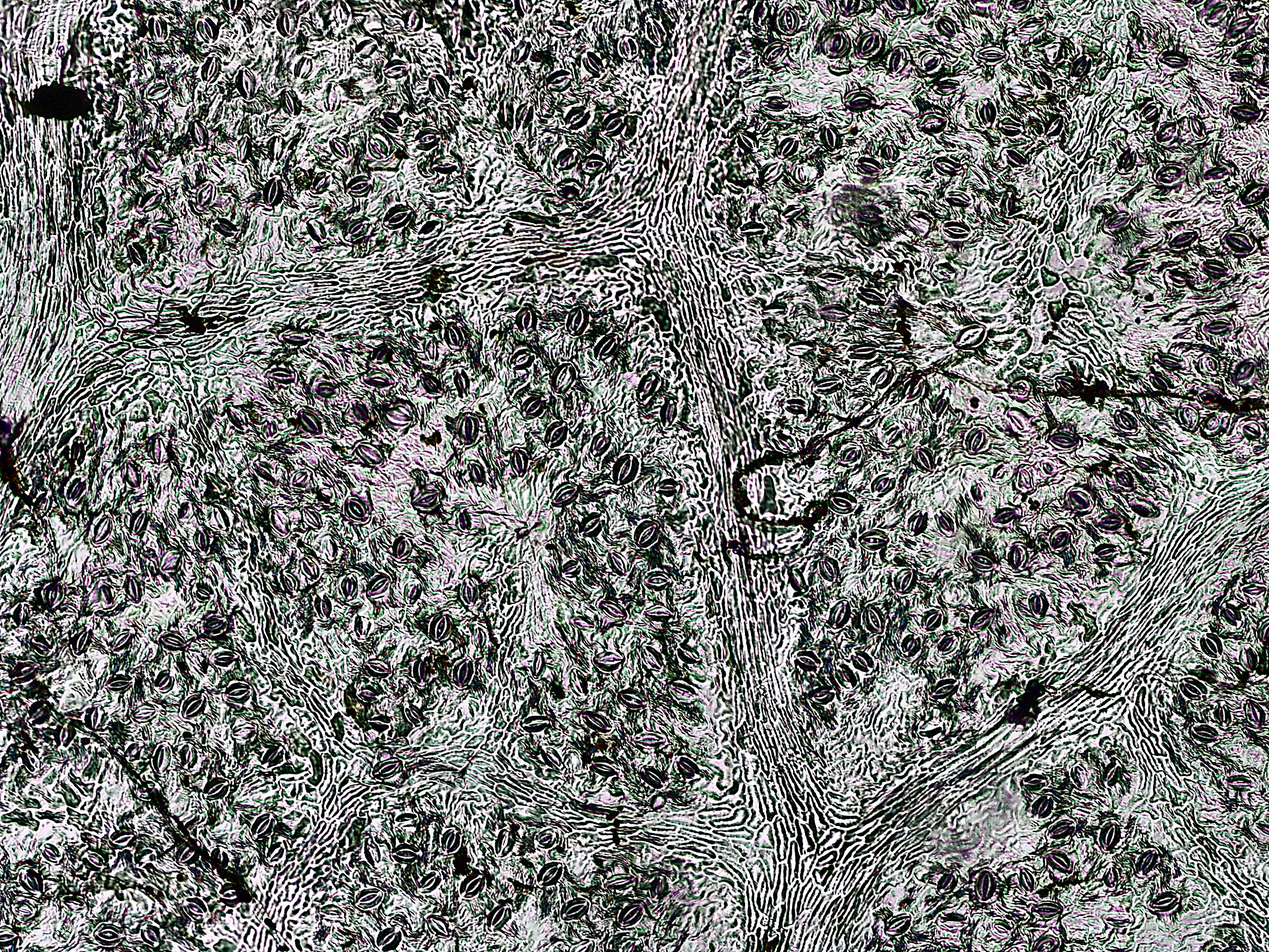stomata: (902, 714, 961, 750), (812, 114, 849, 158), (840, 83, 884, 117), (421, 66, 457, 107), (851, 518, 896, 550), (1096, 506, 1137, 541), (849, 197, 892, 230), (736, 212, 775, 248), (1096, 205, 1137, 239), (86, 917, 125, 951), (757, 38, 798, 69), (953, 318, 989, 353), (629, 513, 662, 550), (1042, 427, 1087, 454), (1236, 175, 1269, 210), (975, 41, 1014, 70), (545, 476, 581, 507), (609, 897, 645, 928), (293, 401, 323, 438), (277, 86, 306, 124), (921, 672, 959, 701), (939, 182, 981, 208), (635, 364, 662, 404), (874, 130, 903, 167), (240, 808, 278, 836), (774, 4, 807, 36), (183, 895, 216, 927), (461, 865, 492, 899), (544, 619, 573, 655), (531, 822, 568, 850), (403, 484, 441, 511), (425, 911, 457, 943), (577, 510, 610, 541), (861, 600, 890, 635), (429, 151, 468, 177), (77, 847, 113, 875), (1019, 931, 1067, 952), (891, 624, 922, 656), (813, 302, 856, 325), (849, 150, 883, 179), (1054, 371, 1088, 400), (1087, 537, 1128, 561), (166, 840, 205, 865), (553, 175, 589, 202), (42, 575, 69, 611), (1166, 225, 1203, 251), (352, 883, 389, 909), (911, 439, 937, 476), (1202, 310, 1239, 336), (674, 751, 702, 785), (102, 670, 137, 697), (764, 429, 803, 453), (773, 127, 803, 158), (763, 83, 792, 115), (886, 44, 915, 76), (580, 707, 612, 736), (964, 547, 996, 576), (1048, 843, 1077, 875), (1230, 97, 1263, 125), (637, 763, 671, 790), (1045, 812, 1079, 839), (146, 10, 172, 45), (50, 716, 75, 752), (820, 27, 849, 58), (548, 362, 577, 393), (410, 866, 441, 895), (365, 570, 396, 599), (543, 420, 571, 452), (1105, 406, 1137, 434), (328, 127, 355, 160), (587, 424, 614, 457), (7, 658, 40, 685), (22, 697, 55, 724), (208, 646, 245, 670), (1200, 258, 1234, 284), (422, 615, 456, 641), (645, 16, 670, 51), (597, 597, 632, 622), (614, 684, 649, 709), (928, 72, 966, 95), (1151, 162, 1189, 185), (604, 546, 633, 576), (20, 862, 49, 892), (597, 107, 628, 135), (854, 25, 882, 56), (613, 455, 640, 487), (225, 679, 261, 703), (570, 665, 596, 698), (233, 65, 256, 102), (917, 106, 951, 131), (139, 146, 168, 175), (142, 432, 171, 461), (89, 513, 113, 548), (461, 410, 482, 450), (1142, 373, 1182, 394), (826, 489, 861, 513), (1030, 896, 1065, 920), (1102, 758, 1130, 788), (380, 202, 411, 229), (490, 826, 517, 857), (387, 400, 419, 426), (450, 658, 476, 690), (1067, 47, 1092, 80), (226, 407, 255, 435), (882, 907, 910, 936), (967, 605, 997, 632), (69, 623, 95, 654), (640, 644, 666, 675), (1006, 537, 1031, 569), (508, 442, 529, 480), (843, 342, 885, 361), (491, 95, 515, 128), (616, 27, 638, 63), (995, 183, 1019, 216), (903, 372, 927, 405), (157, 545, 185, 573), (260, 741, 288, 769), (401, 5, 428, 34), (540, 745, 567, 774), (1015, 458, 1038, 492), (512, 100, 538, 130), (906, 207, 932, 237), (1224, 231, 1254, 257), (594, 335, 620, 365), (278, 330, 319, 349), (754, 159, 785, 184), (1153, 121, 1184, 146), (656, 399, 681, 430), (59, 890, 90, 915), (128, 699, 159, 724), (938, 219, 973, 241), (275, 4, 299, 36), (1158, 44, 1190, 68), (1123, 503, 1161, 523), (126, 236, 149, 269), (896, 562, 919, 595), (194, 17, 222, 44), (1163, 259, 1191, 286), (64, 435, 92, 462), (536, 858, 564, 885), (849, 645, 875, 674), (789, 162, 814, 192), (148, 217, 182, 239), (993, 116, 1027, 138), (67, 471, 89, 505), (269, 505, 291, 539), (122, 459, 146, 490), (366, 366, 397, 390), (1149, 889, 1180, 913), (940, 909, 971, 933), (206, 771, 229, 803), (414, 124, 441, 151), (561, 101, 588, 128), (919, 607, 946, 634), (252, 459, 278, 487), (1017, 12, 1050, 34), (444, 318, 466, 351), (105, 625, 134, 650), (558, 898, 587, 923), (517, 712, 555, 731), (746, 0, 770, 30), (591, 646, 625, 667), (636, 727, 670, 748), (344, 217, 375, 240), (932, 17, 963, 40), (263, 175, 285, 207), (934, 505, 956, 537), (1068, 760, 1090, 792), (936, 150, 962, 177), (865, 361, 892, 387), (1039, 458, 1065, 485), (992, 500, 1019, 526), (776, 204, 811, 224), (345, 496, 373, 521), (487, 904, 511, 933), (673, 641, 702, 665), (139, 917, 162, 947), (819, 555, 842, 585), (934, 867, 957, 897), (642, 572, 678, 591), (32, 491, 54, 522), (391, 842, 422, 864), (1231, 358, 1262, 380), (1017, 768, 1048, 790), (368, 759, 402, 779), (138, 186, 164, 212), (124, 511, 151, 536), (121, 571, 142, 603), (861, 280, 889, 304), (182, 688, 205, 717), (871, 472, 900, 495), (1154, 352, 1191, 370), (454, 365, 473, 400), (568, 304, 587, 339), (28, 634, 58, 656), (187, 119, 208, 150), (210, 216, 241, 237), (261, 134, 286, 160), (1124, 252, 1150, 277), (36, 840, 62, 865), (456, 581, 481, 607), (669, 675, 695, 700), (735, 125, 759, 152), (219, 881, 243, 908), (277, 568, 301, 595), (588, 758, 622, 777), (1028, 590, 1047, 624), (917, 49, 945, 72), (362, 440, 385, 468), (192, 581, 220, 604), (231, 715, 259, 738), (331, 0, 353, 29), (582, 151, 611, 173), (855, 409, 884, 431), (196, 53, 217, 83), (975, 95, 996, 125), (155, 629, 185, 650), (1041, 115, 1066, 140), (270, 362, 295, 387), (385, 55, 409, 81), (212, 505, 236, 531), (520, 393, 544, 419), (403, 703, 429, 727), (642, 603, 681, 619), (877, 423, 903, 447), (363, 655, 390, 678), (782, 393, 813, 413), (439, 827, 461, 855), (316, 594, 338, 622), (1246, 699, 1268, 727), (1001, 148, 1030, 169), (8, 899, 37, 920), (338, 570, 359, 599), (152, 741, 171, 773), (230, 133, 250, 163), (308, 170, 333, 194), (401, 577, 425, 602), (1064, 485, 1088, 510), (826, 600, 850, 625), (1181, 678, 1206, 702), (511, 38, 534, 64), (510, 347, 536, 370), (318, 533, 341, 559), (468, 462, 490, 489), (93, 581, 115, 608), (969, 422, 987, 455), (906, 510, 928, 537), (1138, 848, 1160, 875), (813, 269, 850, 285), (193, 180, 214, 208), (1213, 696, 1234, 724), (293, 51, 313, 80), (455, 506, 475, 535), (217, 0, 251, 17), (1120, 144, 1138, 176), (266, 845, 290, 869), (1097, 816, 1115, 848), (389, 534, 412, 559), (135, 773, 157, 799), (144, 81, 174, 100), (605, 871, 635, 890), (418, 220, 445, 241), (1205, 163, 1232, 184), (423, 335, 444, 362), (318, 903, 345, 924), (359, 837, 380, 864), (545, 69, 573, 89), (548, 20, 579, 38), (782, 341, 819, 356), (978, 867, 993, 904), (553, 143, 576, 167), (798, 645, 822, 668), (1199, 636, 1222, 660), (1234, 645, 1258, 668), (355, 684, 384, 703), (1052, 525, 1074, 550), (353, 38, 379, 59), (829, 0, 863, 16), (1034, 62, 1051, 94), (813, 374, 845, 391), (87, 702, 105, 732), (200, 616, 227, 636), (517, 305, 536, 333), (655, 476, 683, 495), (934, 392, 953, 420), (349, 172, 372, 195), (421, 373, 444, 396), (648, 874, 671, 897), (833, 663, 856, 686), (380, 926, 402, 950), (584, 51, 605, 76), (349, 396, 370, 421), (1033, 795, 1058, 816), (1221, 778, 1256, 793), (10, 601, 29, 628), (305, 218, 328, 240), (838, 445, 861, 467), (1008, 411, 1030, 434), (365, 135, 385, 160), (107, 95, 127, 120), (122, 741, 147, 761), (561, 552, 581, 577), (410, 651, 426, 682), (190, 529, 209, 555), (289, 469, 315, 488), (569, 613, 598, 630), (325, 77, 339, 112), (111, 831, 138, 849), (1113, 468, 1136, 489), (371, 343, 399, 360), (180, 740, 197, 768), (213, 842, 231, 868), (302, 508, 322, 531), (885, 0, 912, 17), (152, 665, 171, 689), (511, 0, 541, 15), (1177, 402, 1195, 427), (299, 555, 320, 576), (379, 115, 401, 135), (999, 0, 1043, 10), (817, 688, 840, 707), (392, 813, 421, 828), (1188, 115, 1206, 139), (1200, 358, 1221, 378), (350, 613, 369, 635), (0, 920, 16, 946), (1223, 604, 1241, 627), (1105, 867, 1123, 890), (988, 921, 1011, 939), (531, 652, 548, 676), (1190, 723, 1218, 737), (312, 382, 338, 397), (473, 624, 488, 650), (1242, 581, 1268, 596), (1109, 913, 1138, 926), (1257, 612, 1269, 643), (1140, 98, 1158, 118), (1246, 421, 1264, 441), (940, 630, 955, 654), (175, 501, 192, 521), (1018, 869, 1034, 890), (1137, 453, 1156, 470), (1206, 412, 1219, 433)
